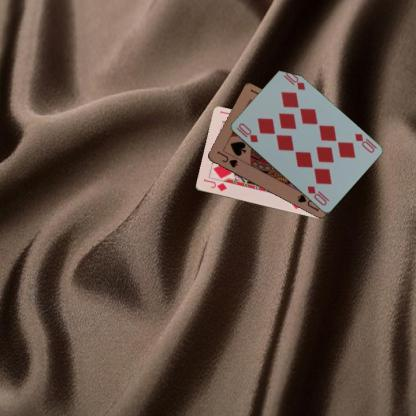10d: (233, 120, 259, 144), (352, 131, 378, 154)
Jd: (201, 176, 228, 193)
Js: (214, 148, 239, 170)
